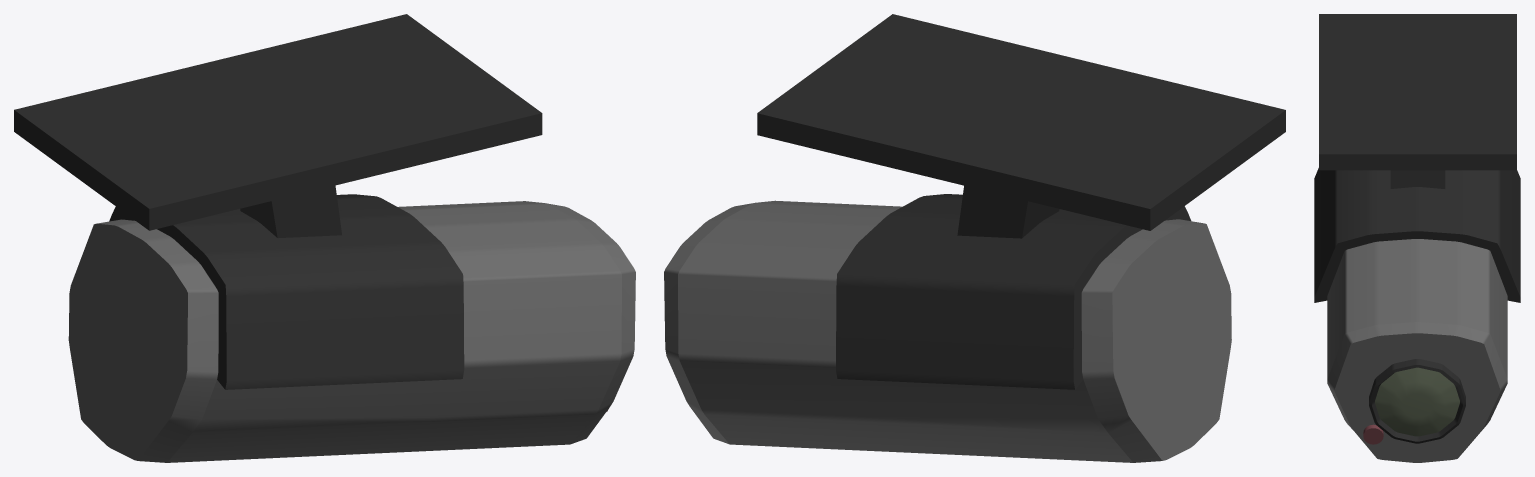
The model's file is Camera.fbx.
3 views of the same model, side by side, from view 1: azimuth 30°, elevation 25°; view 2: azimuth 150°, elevation 25°; view 3: azimuth 270°, elevation 25° (orthographic). The views are drawn at different scales.
Visible parts, largest first — view 1: Camera; view 2: Camera; view 3: Camera.
Part boxes in pixels (box(x1,y1,x2,y2)): Camera: box(14, 14, 635, 462); Camera: box(664, 14, 1285, 462); Camera: box(1314, 14, 1520, 462).
Size of the model in its own units: 24.13 by 17.02 by 11.39.
